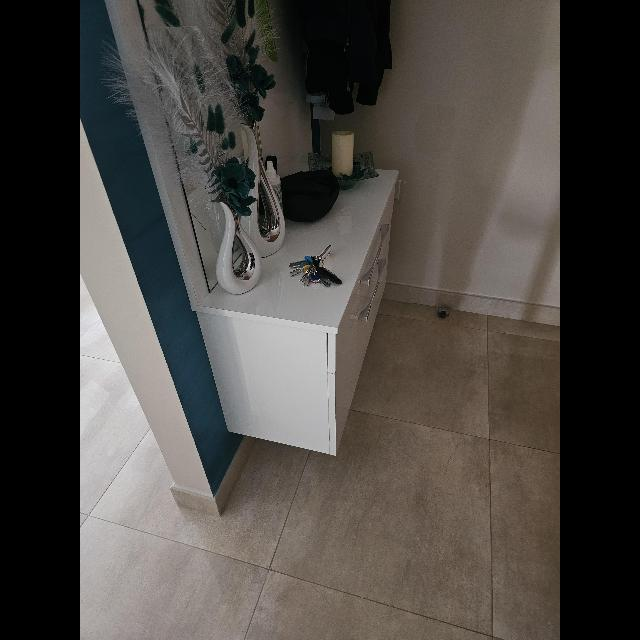Keys: (289, 246, 339, 288)
